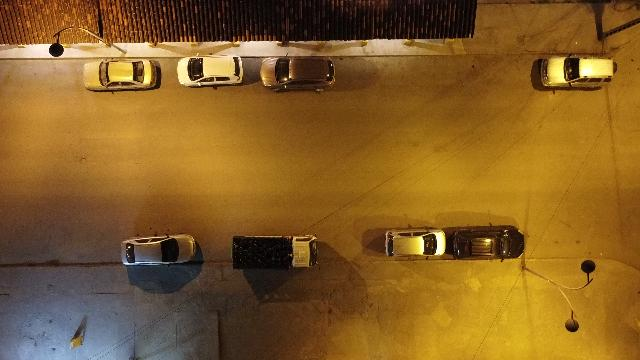Vehiculo: (231, 235, 318, 270), (260, 56, 336, 92), (83, 59, 159, 91), (540, 56, 614, 88), (451, 228, 525, 260), (121, 235, 196, 265), (177, 54, 243, 86), (385, 228, 445, 256)
